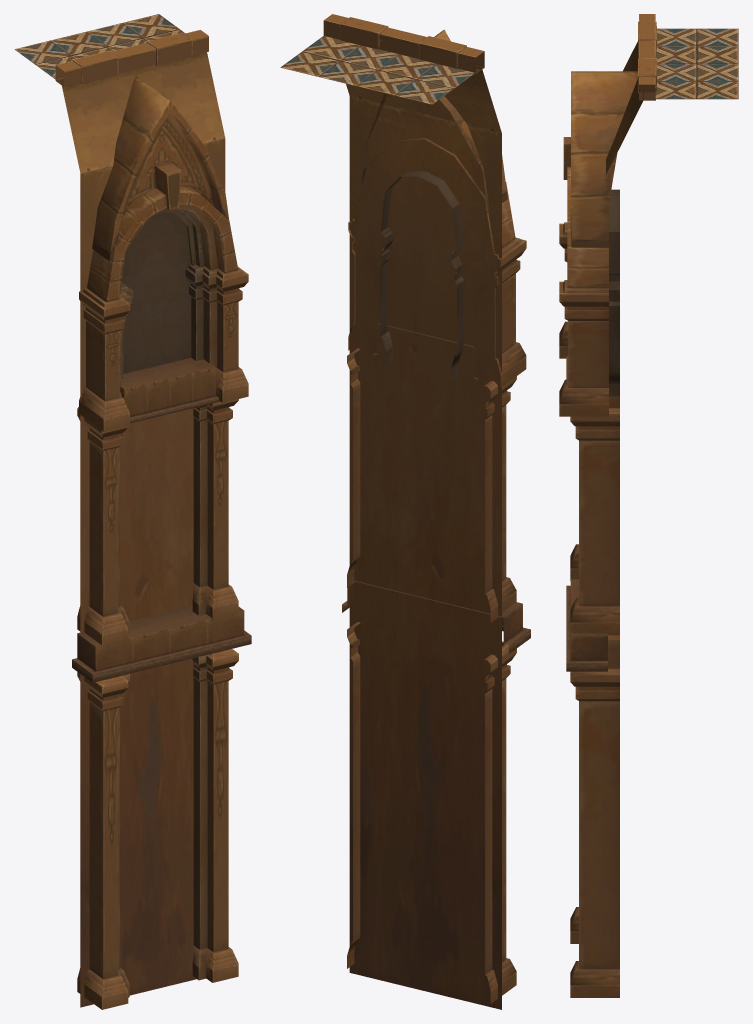
The model's file is shakian_cliff_base24_wallunder01_06.FBX.
3 renders of one model, left to right at view 1: azimuth 30°, elevation 25°; view 2: azimuth 150°, elevation 25°; view 3: azimuth 270°, elevation 25°, orthographic. The views are drawn at different scales.
Visible parts, largest first — view 1: shakian_cliff_base24_wallunder01_06; view 2: shakian_cliff_base24_wallunder01_06; view 3: shakian_cliff_base24_wallunder01_06.
Part boxes in pixels (x1=…): shakian_cliff_base24_wallunder01_06: x1=14, y1=14, x2=251, y2=1009; shakian_cliff_base24_wallunder01_06: x1=280, y1=14, x2=530, y2=1009; shakian_cliff_base24_wallunder01_06: x1=559, y1=14, x2=738, y2=997.
Size of the model in its own units: 4.39 by 24.41 by 4.29.
